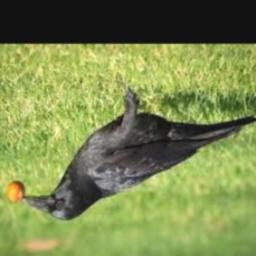Crow: (21, 87, 256, 222)
